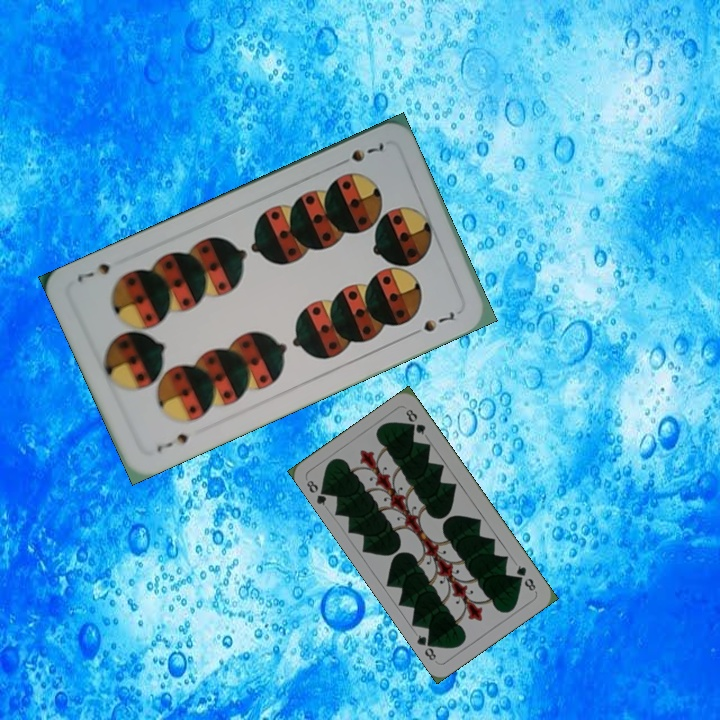G8: (302, 476, 332, 508), (512, 561, 539, 595)
S7: (333, 138, 390, 169), (152, 429, 191, 454)
